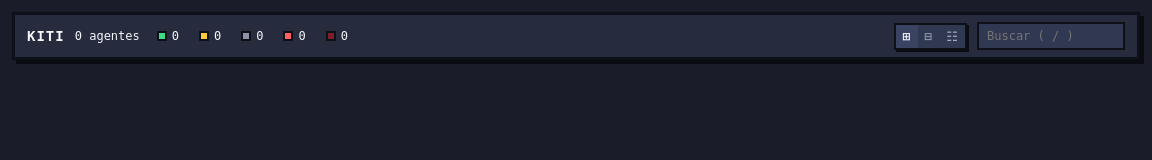
Test case: TopBar › los contadores en cero ocultan su etiqueta salvo que estén activos en el filtro
Click the button with test id "count-waiting".
click(210, 36)  # box [192,25,228,47]
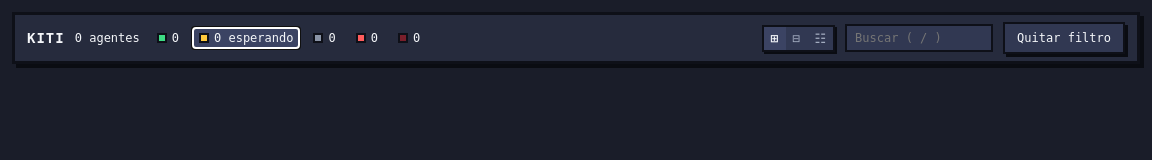
Expected: the button with test id "count-waiting" reads "0 esperando", [192,27,300,49]
